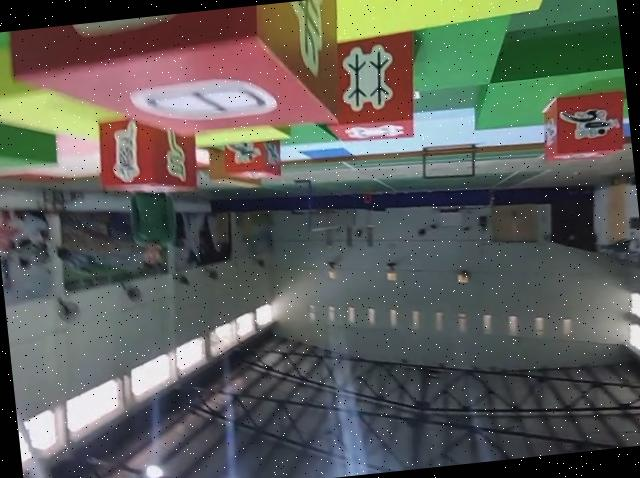R1: (535, 88, 634, 168), (218, 130, 287, 187)
R2 Fake: (3, 0, 351, 160), (93, 109, 203, 203)
R2 Real: (316, 28, 427, 149)
